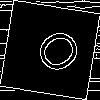O: (25, 25, 85, 83)
